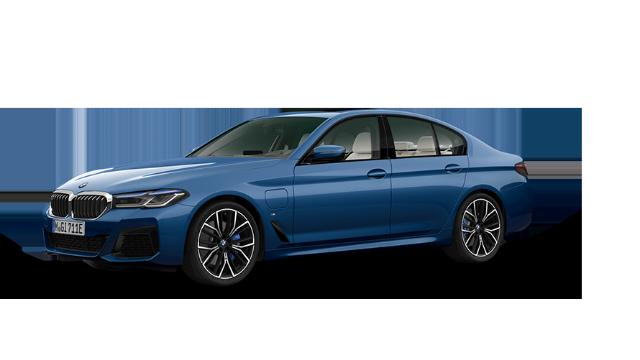bmw: (41, 108, 535, 286)
